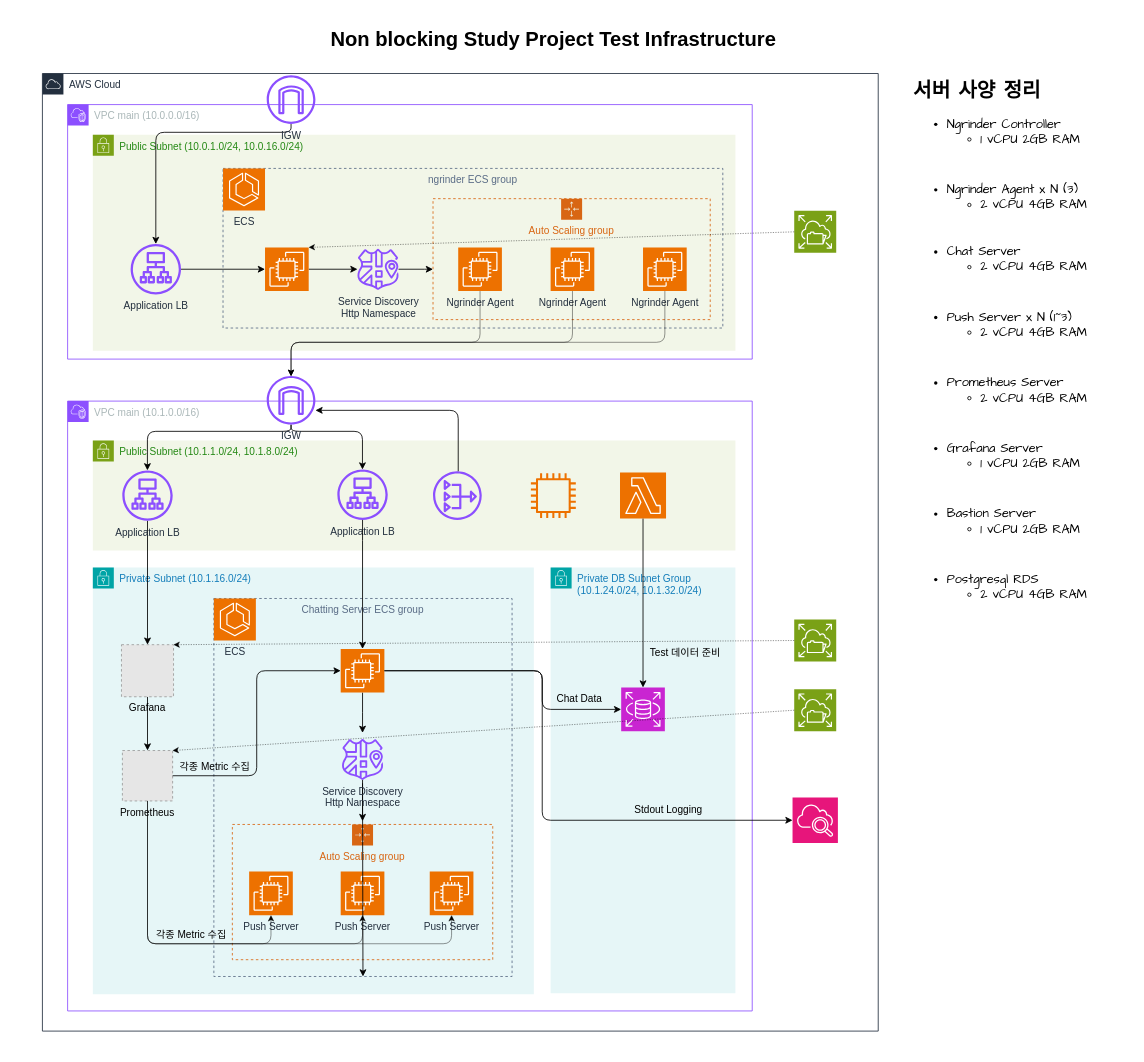
This 1144x1062 diagram has some shape labels left out. Grey dashed boxes stand in for pictures. The centre of each missing label's shape, as x and y in pixels:
Bastion Server: (x=552, y=495)
Chat Server (테스트 대상): (x=362, y=670)
CloudWatch (Alt of File Log): (x=815, y=820)
Grafana EFS: (x=814, y=640)
NAT Gateway: (x=457, y=495)
Ngrinder Controller: (x=286, y=269)
Ngrinder EFS: (x=814, y=231)
Postgresql RDS: (x=642, y=709)
Prometheus EFS: (x=814, y=709)
TestFixtureCreator: (x=642, y=495)
